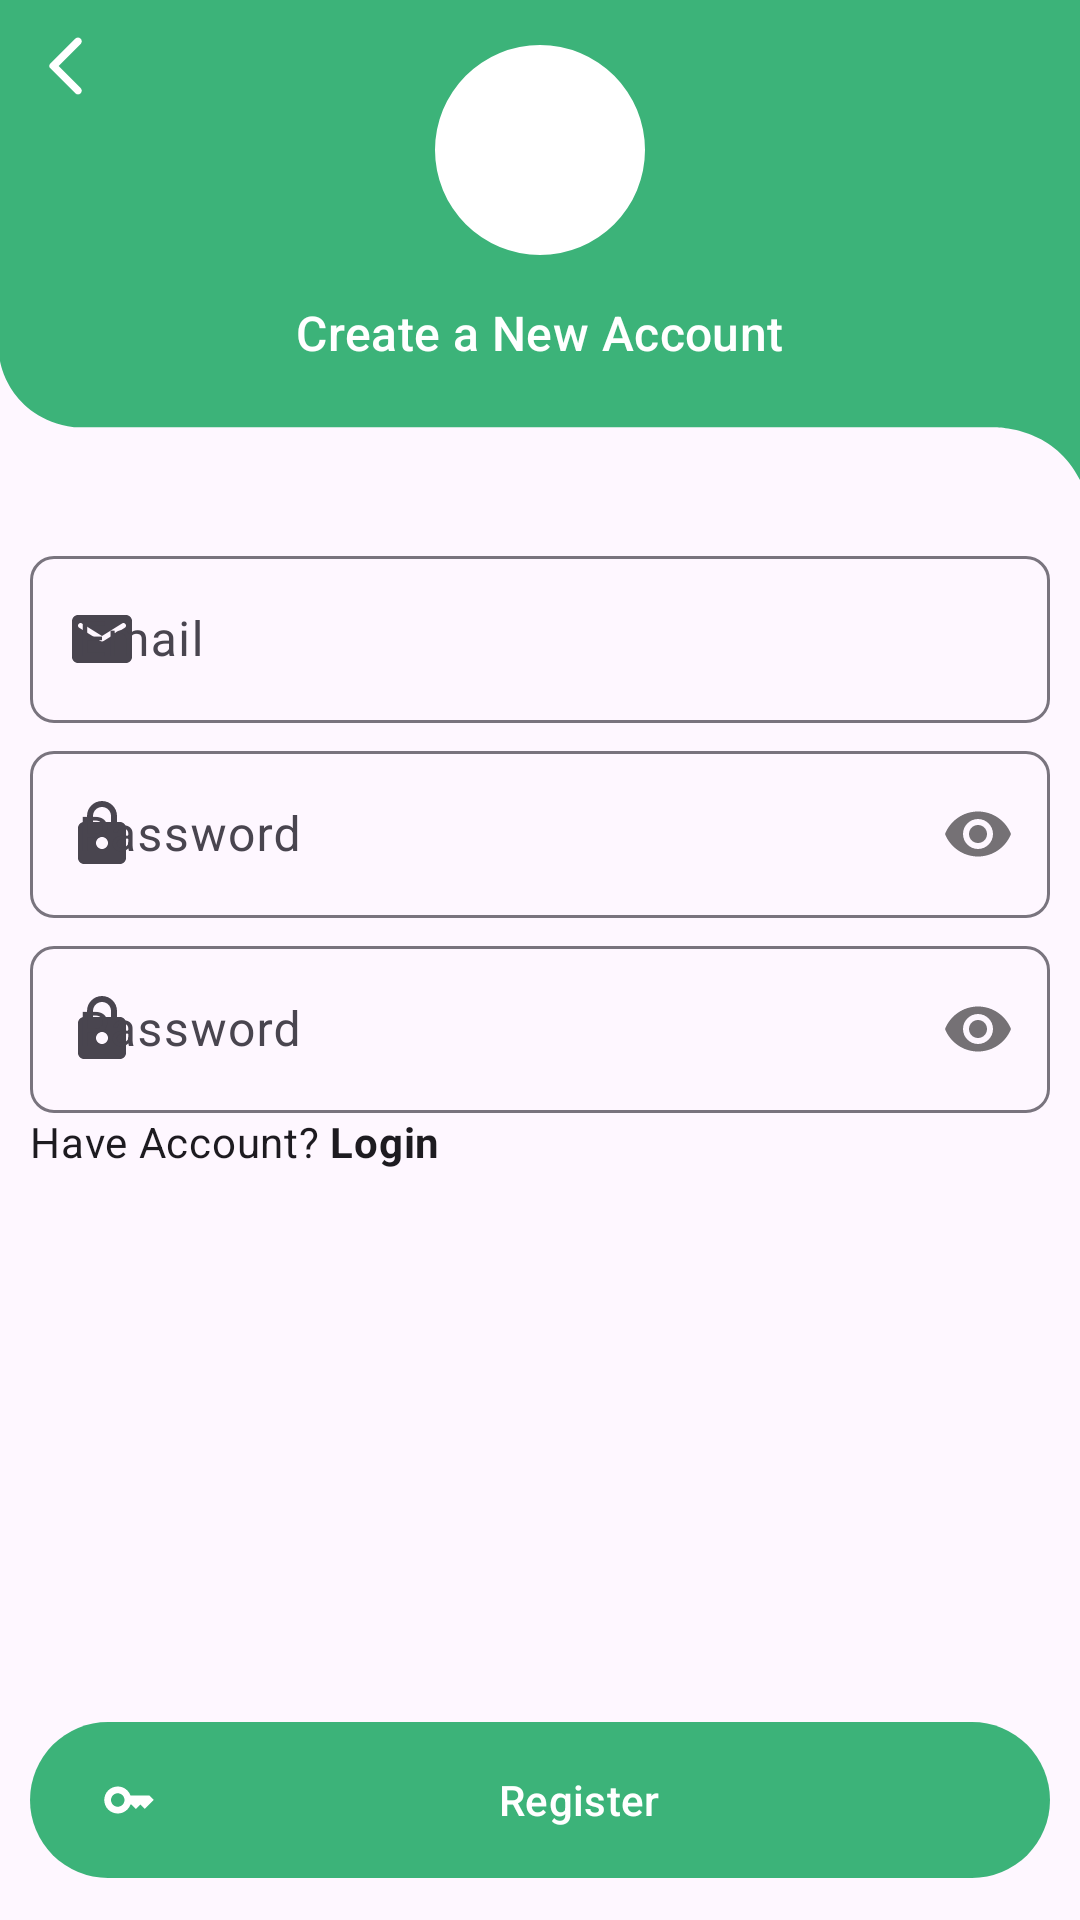

Locate icon controls on the screen. Image size 1080 × 1920, boxes as (x1, y1, x2, y2).
back: (49, 37, 82, 95)
